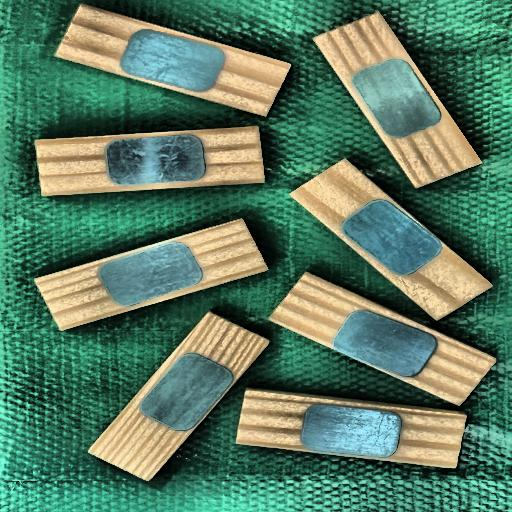objects: (288, 146, 493, 334), (88, 298, 271, 495), (315, 0, 482, 201), (268, 266, 497, 412), (54, 0, 292, 120), (33, 215, 269, 334), (235, 388, 468, 470), (35, 125, 265, 197), (34, 126, 264, 197)
